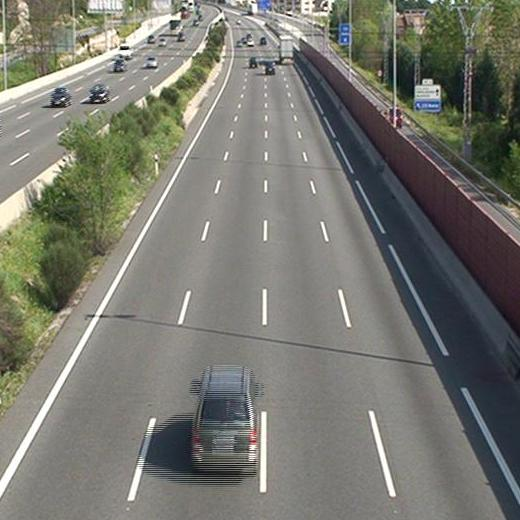car: (192, 367, 258, 469), (265, 61, 274, 74), (248, 56, 257, 66)
truck: (279, 35, 293, 65)
